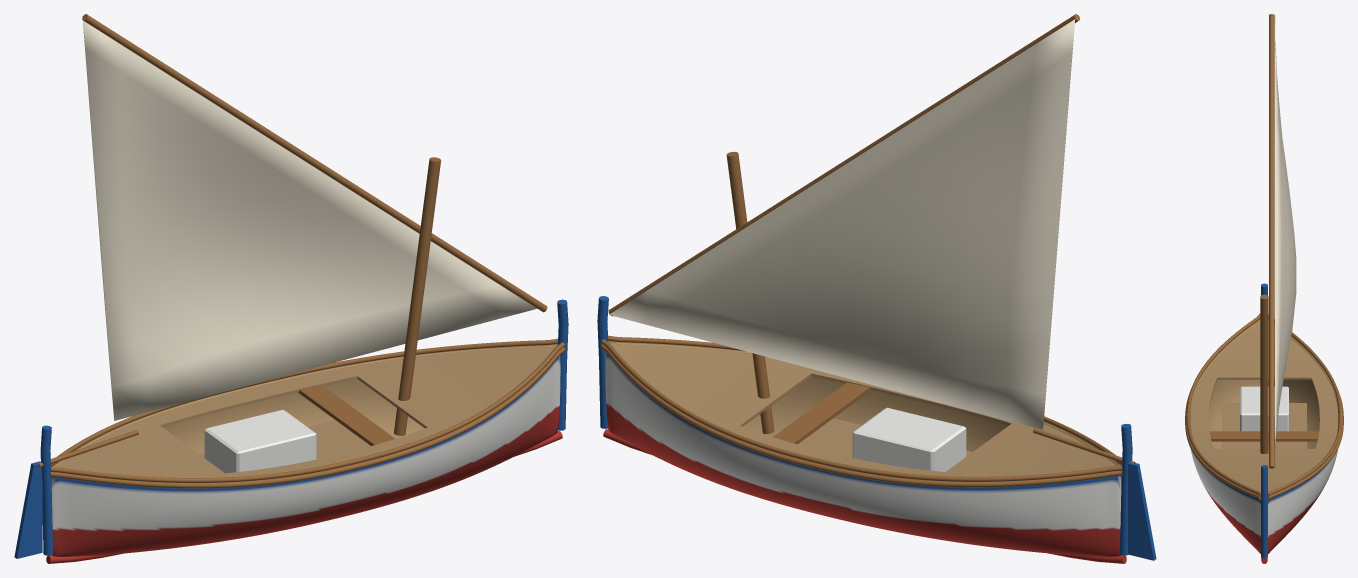
The model's file is llaut.glb.
3 views of the same model, side by side, from view 1: azimuth 30°, elevation 25°; view 2: azimuth 150°, elevation 25°; view 3: azimuth 270°, elevation 25° (orthographic). The views are drawn at different scales.
Visible parts, largest first — view 1: Lateen Sail, Llaut Hull, Deck, Engine Box, Lateen Yard, Mast, Rubbing Strake.001, Gunwale.001, Gunwale, Thwart, Rudder, Cockpit Floor (+2 smaller); view 2: Lateen Sail, Llaut Hull, Deck, Engine Box, Rubbing Strake, Gunwale, Lateen Yard, Thwart, Rudder, Mast, Cockpit Floor, Gunwale.001 (+2 smaller); view 3: Deck, Llaut Hull, Lateen Sail, Lateen Yard, Cockpit Floor, Engine Box, Mast, Thwart, Gunwale.001, Gunwale, Stem Post, Rubbing Strake.001 (+1 smaller).
Part boxes in pixels (left/top/right/bottom): Lateen Sail: left=82, top=16, right=536, bottom=420; Llaut Hull: left=51, top=345, right=560, bottom=556; Deck: left=56, top=345, right=556, bottom=477; Engine Box: left=204, top=410, right=316, bottom=473; Lateen Yard: left=82, top=14, right=547, bottom=312; Mast: left=394, top=157, right=441, bottom=435; Rubbing Strake.001: left=50, top=347, right=565, bottom=488; Gunwale.001: left=50, top=342, right=564, bottom=482; Gunwale: left=51, top=338, right=557, bottom=466; Thwart: left=298, top=385, right=395, bottom=445; Rudder: left=14, top=461, right=42, bottom=558; Cockpit Floor: left=199, top=420, right=370, bottom=459; Lateen Sail: left=609, top=19, right=1075, bottom=429; Llaut Hull: left=605, top=342, right=1121, bottom=556; Deck: left=609, top=342, right=1116, bottom=476; Engine Box: left=852, top=407, right=966, bottom=471; Rubbing Strake: left=600, top=344, right=1122, bottom=487; Gunwale: left=601, top=339, right=1122, bottom=481; Lateen Yard: left=608, top=14, right=1080, bottom=316; Thwart: left=773, top=382, right=871, bottom=444; Rudder: left=1128, top=462, right=1156, bottom=560; Mast: left=726, top=151, right=774, bottom=433; Cockpit Floor: left=798, top=418, right=972, bottom=457; Gunwale.001: left=608, top=335, right=1121, bottom=464; Deck: left=1190, top=322, right=1338, bottom=492; Llaut Hull: left=1190, top=320, right=1338, bottom=553; Lateen Sail: left=1275, top=15, right=1296, bottom=466; Lateen Yard: left=1269, top=14, right=1274, bottom=468; Cockpit Floor: left=1222, top=403, right=1306, bottom=448; Engine Box: left=1240, top=386, right=1288, bottom=431; Mast: left=1260, top=294, right=1268, bottom=453; Thwart: left=1209, top=431, right=1319, bottom=441; Gunwale.001: left=1186, top=314, right=1260, bottom=496; Gunwale: left=1268, top=314, right=1342, bottom=496; Stem Post: left=1261, top=465, right=1267, bottom=558; Rubbing Strake.001: left=1185, top=319, right=1260, bottom=500.
Size of the model in its own units: 7.53 by 7.1 by 2.61.
